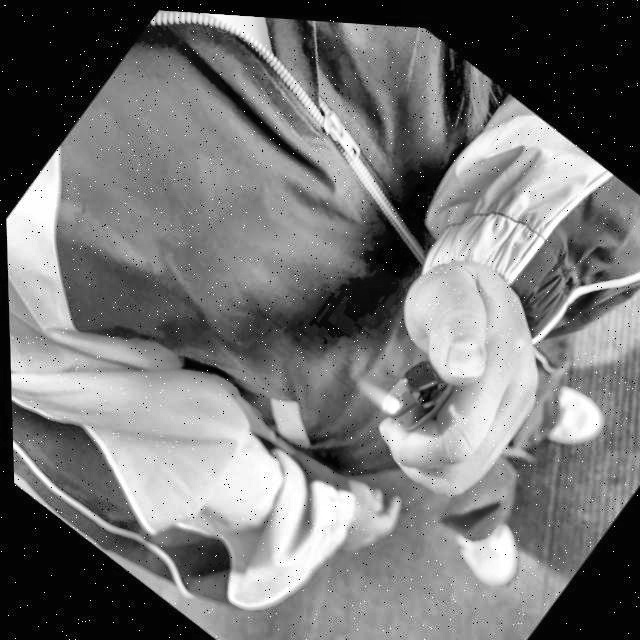Fire: (356, 375, 388, 406)
